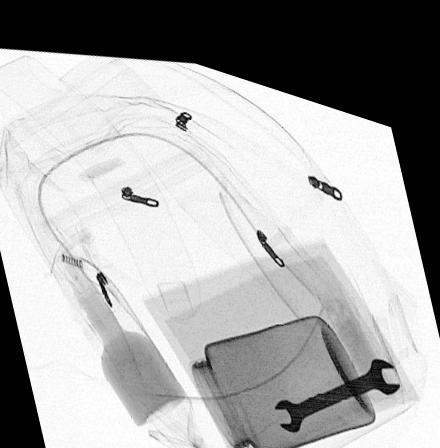Wrench: (270, 334, 400, 416)
